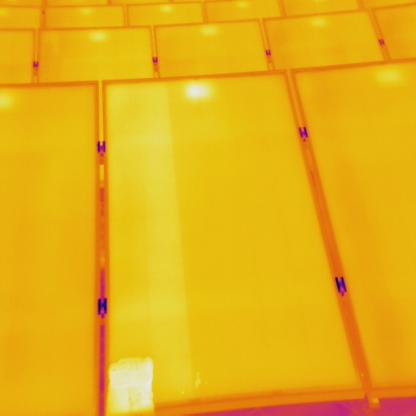hotspot: (106, 355, 160, 416), (184, 81, 212, 103)
